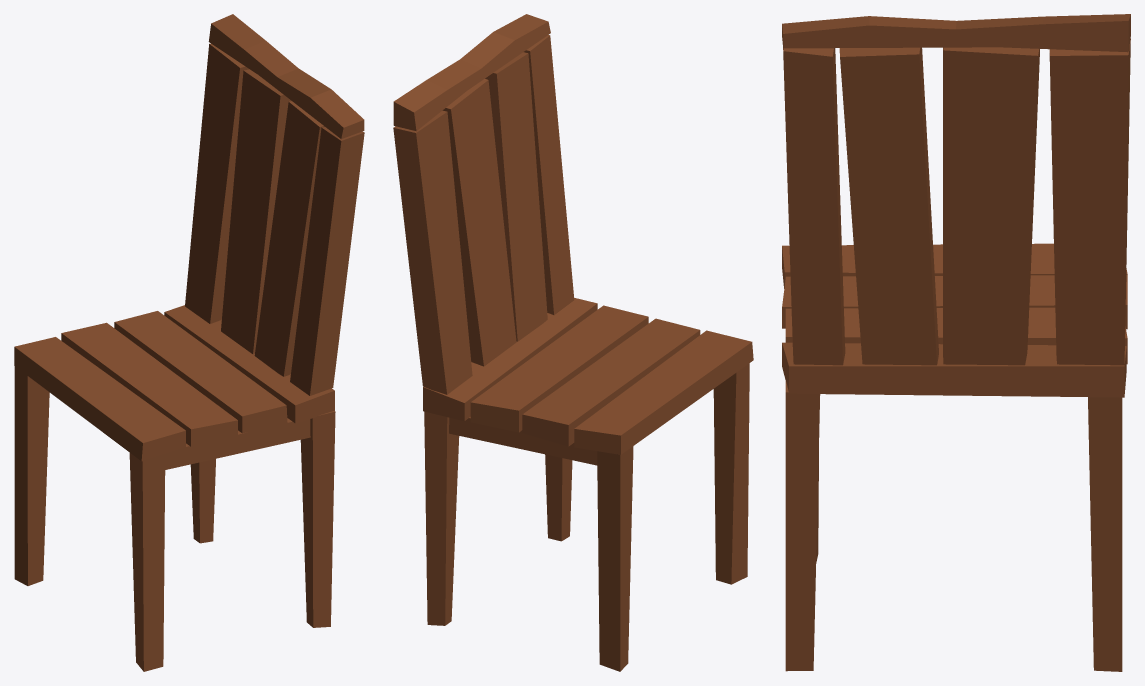
Rendered from chairwoodsimple01.gltf.
3 views of the same model, side by side, from view 1: azimuth 30°, elevation 25°; view 2: azimuth 150°, elevation 25°; view 3: azimuth 270°, elevation 25° (orthographic). The views are drawn at different scales.
Visible parts, largest first — view 1: Cube; view 2: Cube; view 3: Cube.
Boxes of the visible parts, bbox=[...] form: Cube: bbox=[14, 14, 364, 671]; Cube: bbox=[393, 14, 753, 671]; Cube: bbox=[782, 14, 1130, 671].
Bounding box in the file's own units: 0.4918 × 1.07 × 0.5047.
1 material, 1 textured.
